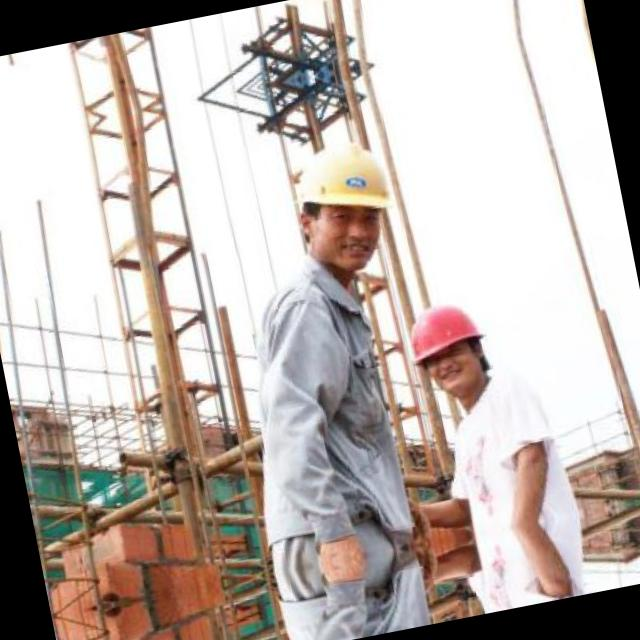helmet: (270, 106, 415, 300), (394, 284, 510, 416), (247, 0, 368, 47)
